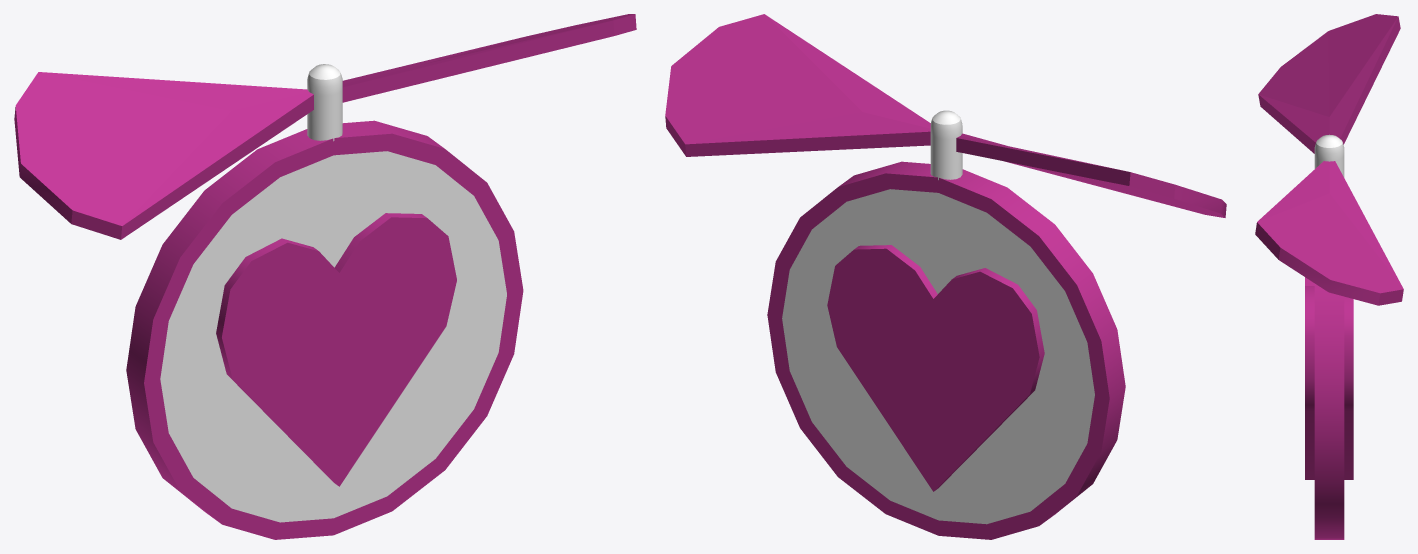
The model's file is TargetHealth.fbx.
3 views of the same model, side by side, from view 1: azimuth 30°, elevation 25°; view 2: azimuth 150°, elevation 25°; view 3: azimuth 270°, elevation 25° (orthographic). The views are drawn at different scales.
Visible parts, largest first — view 1: polySurface2, polySurface1, pCylinder6; view 2: polySurface2, pCylinder6, polySurface1; view 3: polySurface1, polySurface2, pCylinder6.
Boxes of the visible parts, box(x1,y1,x2,y2) form: polySurface2: box(126, 120, 523, 539); polySurface1: box(14, 14, 636, 239); pCylinder6: box(216, 213, 456, 486); polySurface2: box(767, 161, 1125, 539); pCylinder6: box(827, 245, 1044, 491); polySurface1: box(665, 14, 1226, 217); polySurface1: box(1255, 14, 1403, 305); polySurface2: box(1314, 283, 1344, 539); pCylinder6: box(1305, 277, 1353, 479).
Size of the model in its own units: 11.94 by 9.12 by 3.01.
